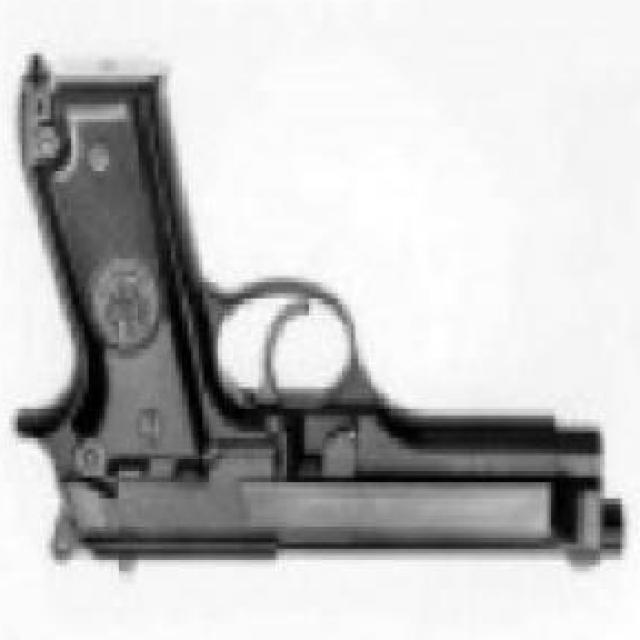pistol: (10, 67, 622, 582)
